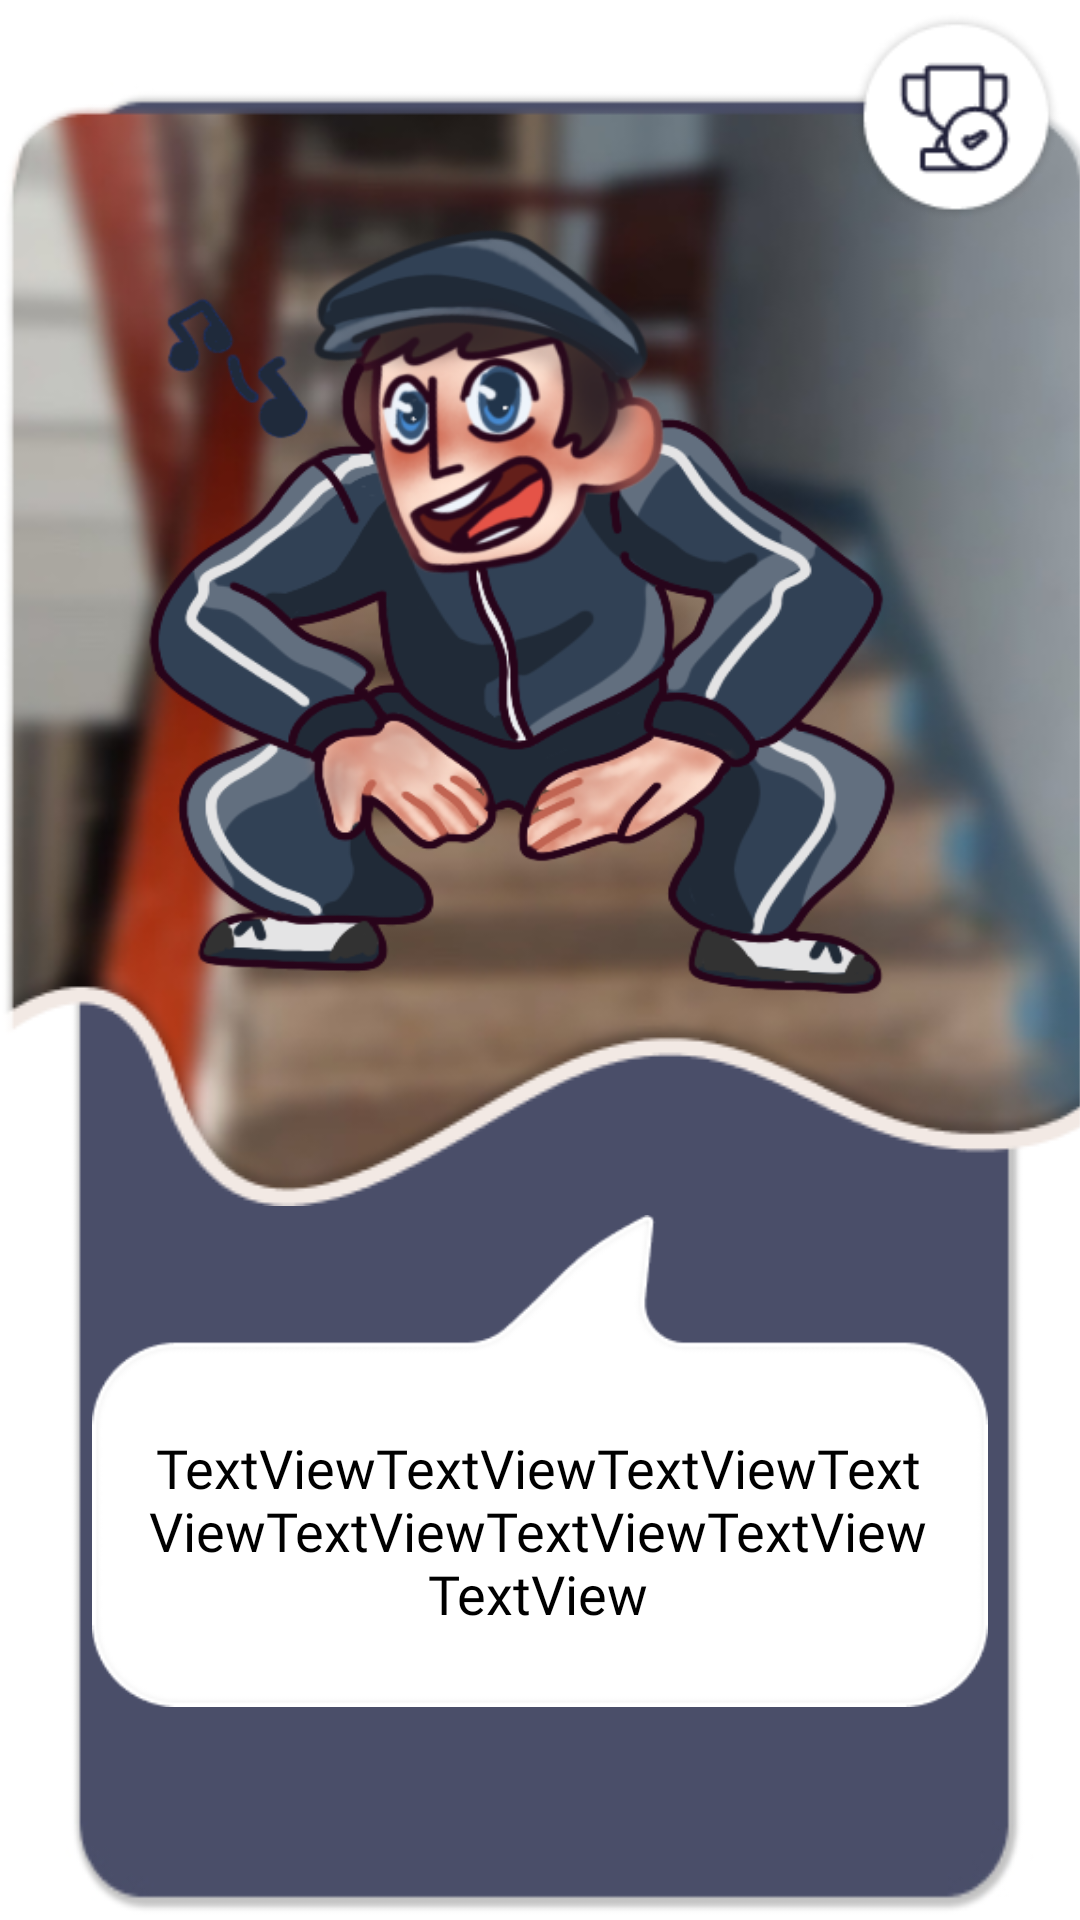

Icons on this 1080×1920 Android screen, each with the point to tap as (x,y):
achievementsbutton: (956,117)
